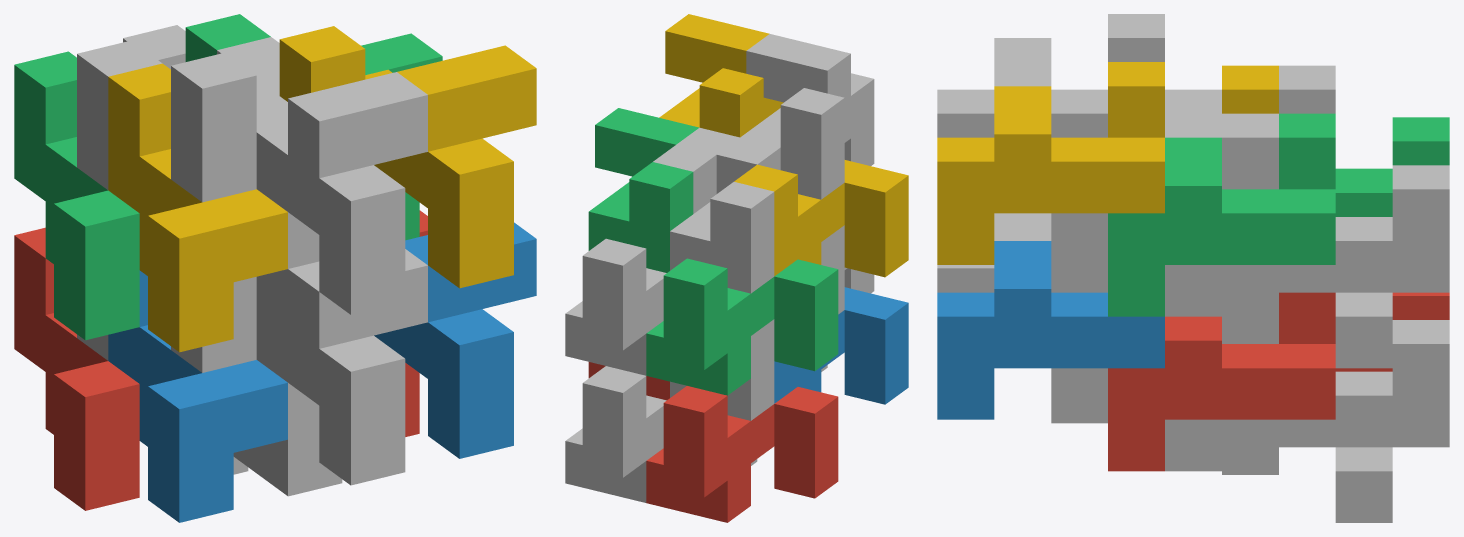
The model's file is tiling.obj.
The picture shows the model from 3 angles, left to right: view 1: azimuth 30°, elevation 25°; view 2: azimuth 150°, elevation 25°; view 3: azimuth 270°, elevation 25°; orthographic projection. The views are drawn at different scales.
Visible parts, largest first — view 1: copy_2_domain_4, copy_2_domain_8, copy_1_domain_4, copy_2_domain_2, copy_1_domain_3, copy_1_domain_2, copy_1_domain_1, copy_2_domain_6, copy_2_domain_3, copy_2_domain_7, copy_1_domain_6, copy_1_domain_8 (+3 smaller); view 2: copy_1_domain_3, copy_1_domain_1, copy_2_domain_4, copy_1_domain_4, copy_2_domain_7, copy_2_domain_3, copy_1_domain_5, copy_1_domain_7, copy_2_domain_8, copy_1_domain_2, copy_2_domain_1, copy_1_domain_8 (+2 smaller); view 3: copy_2_domain_8, copy_2_domain_7, copy_2_domain_5, copy_2_domain_6, copy_1_domain_5, copy_1_domain_7, copy_2_domain_4, copy_1_domain_8, copy_1_domain_6, copy_1_domain_3, copy_2_domain_3, copy_2_domain_2 (+2 smaller).
Part boxes in pixels (x1,y1,x2,y2): copy_2_domain_4: (171,52,427,314); copy_2_domain_8: (279,26,536,288); copy_1_domain_4: (108,63,287,352); copy_2_domain_2: (171,249,427,485); copy_1_domain_3: (14,51,139,340); copy_1_domain_2: (108,270,287,522); copy_1_domain_1: (14,227,139,510); copy_2_domain_6: (374,222,536,458); copy_2_domain_3: (77,40,279,189); copy_2_domain_7: (185,14,442,240); copy_1_domain_6: (256,383,342,496); copy_1_domain_8: (217,37,319,325); copy_1_domain_3: (646,258,838,395); copy_1_domain_1: (646,386,838,522); copy_2_domain_4: (740,34,874,199); copy_1_domain_4: (734,160,908,277); copy_2_domain_7: (588,108,698,272); copy_2_domain_3: (670,127,780,293); copy_1_domain_5: (565,366,757,502); copy_1_domain_7: (565,238,666,375); copy_2_domain_8: (659,14,783,137); copy_1_domain_2: (774,287,908,404); copy_2_domain_1: (670,319,774,420); copy_1_domain_8: (653,145,716,213); copy_2_domain_8: (937,62,1164,264); copy_2_domain_7: (1108,113,1335,316); copy_2_domain_5: (1108,292,1335,471); copy_2_domain_6: (937,241,1164,419); copy_1_domain_5: (1222,320,1449,522); copy_1_domain_7: (1222,165,1449,368); copy_2_domain_4: (937,14,1164,137); copy_1_domain_8: (1051,113,1278,316); copy_1_domain_6: (1051,292,1278,471); copy_1_domain_3: (1335,117,1449,216); copy_2_domain_3: (1165,65,1335,137); copy_2_domain_2: (937,213,1107,292).
Size of the model in its own units: 6 by 8 by 9.
